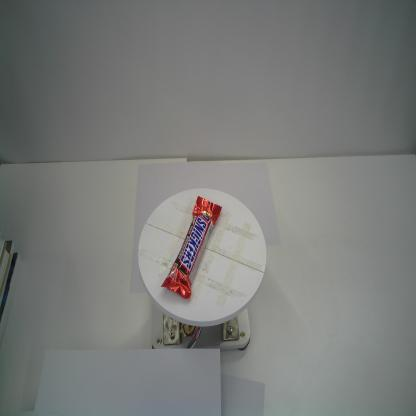Chocolate: (160, 194, 222, 302)
